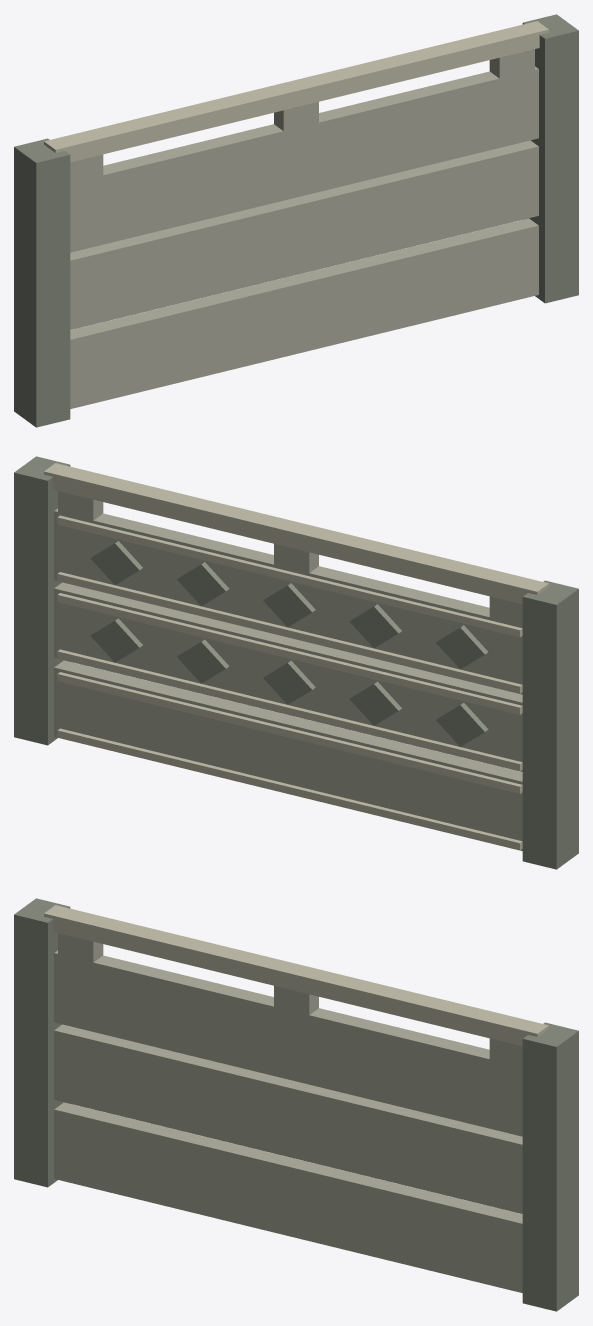
File: ua_concrete_fence.obj
The picture shows the model from 3 angles, top to bottom: view 1: azimuth 30°, elevation 25°; view 2: azimuth 150°, elevation 25°; view 3: azimuth 330°, elevation 25°; orthographic projection.
Visible parts, largest first — view 1: ua_concrete_fence; view 2: ua_concrete_fence; view 3: ua_concrete_fence.
Part boxes in pixels (x1,y1,x2,y2): ua_concrete_fence: (14,14,578,427); ua_concrete_fence: (14,456,578,869); ua_concrete_fence: (14,898,578,1311).
Size of the model in its own units: 3.52 by 1.66 by 0.25.
